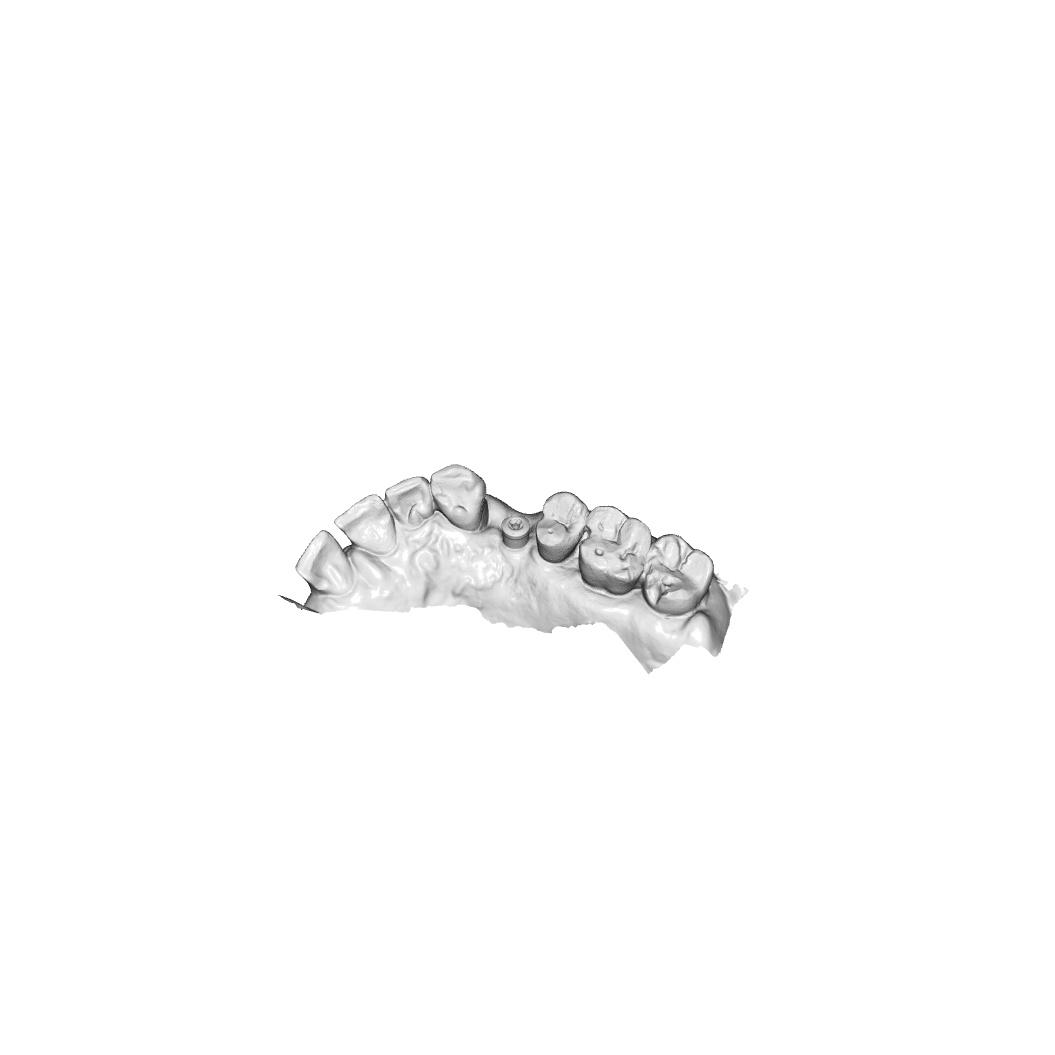canine: (430, 462, 490, 532)
implant_plus: (499, 514, 531, 551)
incisor: (293, 528, 356, 598), (333, 493, 397, 555), (383, 473, 434, 530)
molar: (576, 504, 653, 596), (641, 532, 715, 617)
premolar: (535, 490, 590, 564)
